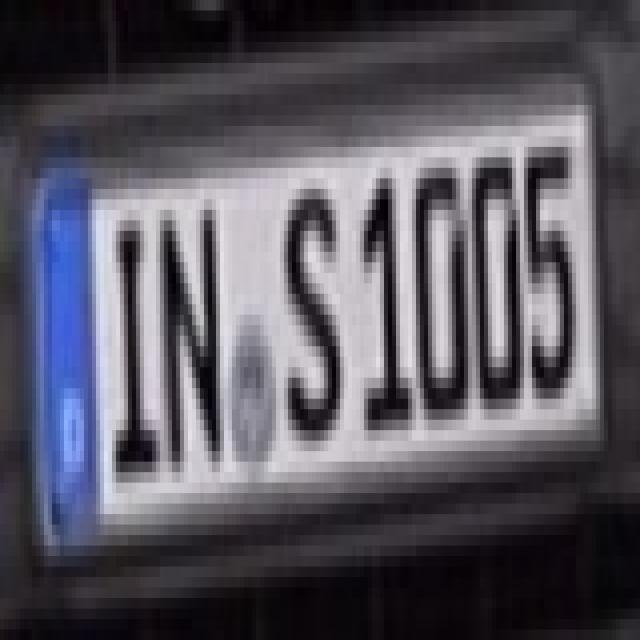LicensePlate: (25, 92, 616, 576)
